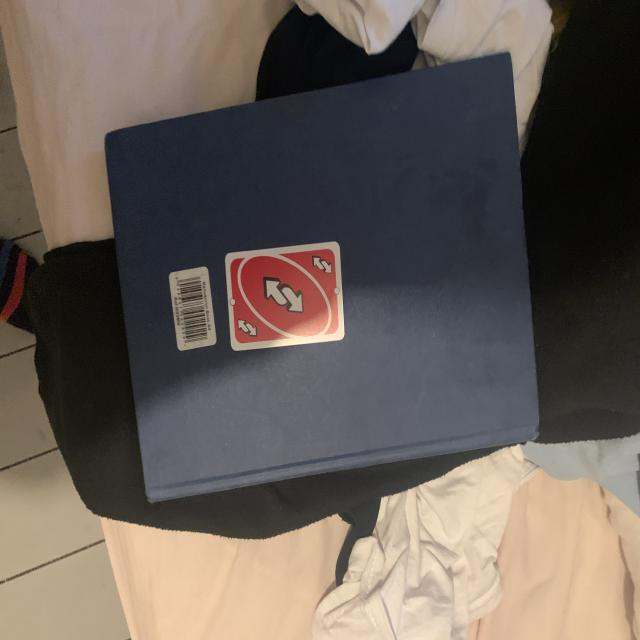lredrevers-20: (308, 253, 336, 278)
